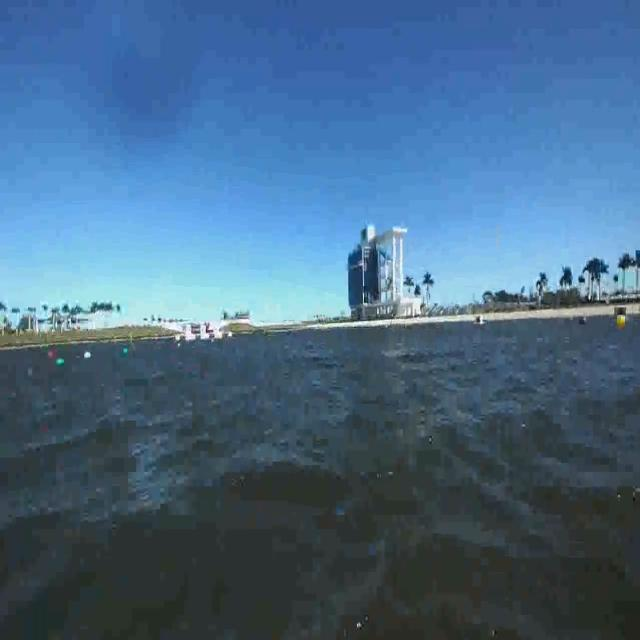green-buoy: (58, 358, 66, 366)
yellow-buoy: (617, 313, 628, 330)
